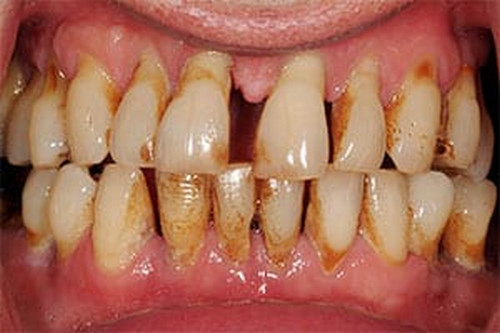LL1BC_decay: (410, 176, 453, 263)
LL2BC_decay: (443, 179, 495, 270)
LLCI_decay: (259, 179, 304, 266)
LLC_decay: (362, 182, 412, 265)
LLLI_decay: (308, 177, 361, 269)
LR1BC_decay: (47, 165, 97, 266)
LR2BC_healthy: (18, 169, 49, 247)
LRCI_decay: (216, 167, 257, 259)
LRC_decay: (92, 166, 153, 280)
LRLI_decay: (160, 174, 213, 255)
UL1BC_decay: (441, 58, 477, 173)
ULCI_decay: (252, 55, 329, 179)
ULC_decay: (384, 56, 435, 176)
ULLI_decay: (327, 51, 385, 174)
UR1BC_decay: (28, 64, 72, 166)
URCI_decay: (162, 59, 238, 174)
URC_decay: (64, 58, 112, 166)
URLI_decay: (110, 54, 159, 166)
